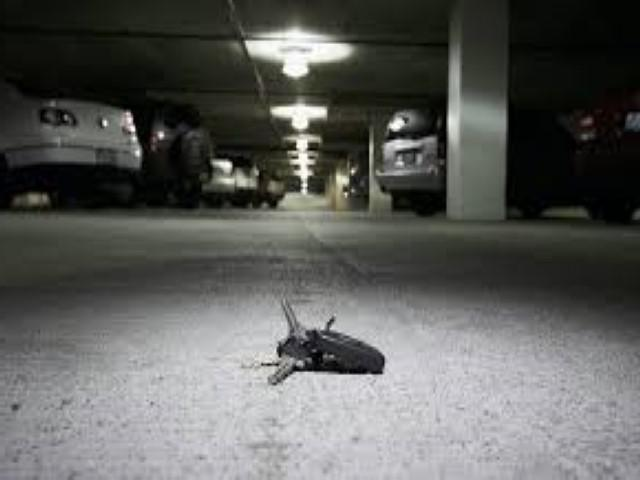key: (256, 291, 384, 384)
